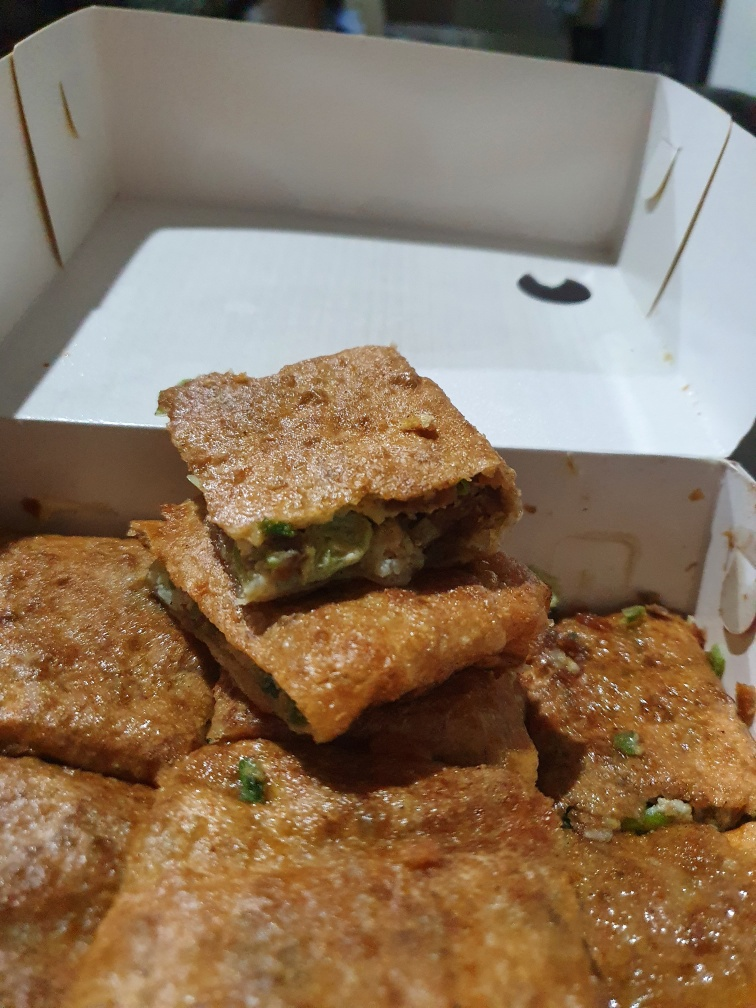martabak telor: (132, 453, 553, 724), (147, 747, 564, 1008), (157, 328, 529, 580), (1, 516, 203, 787), (540, 599, 755, 832)
